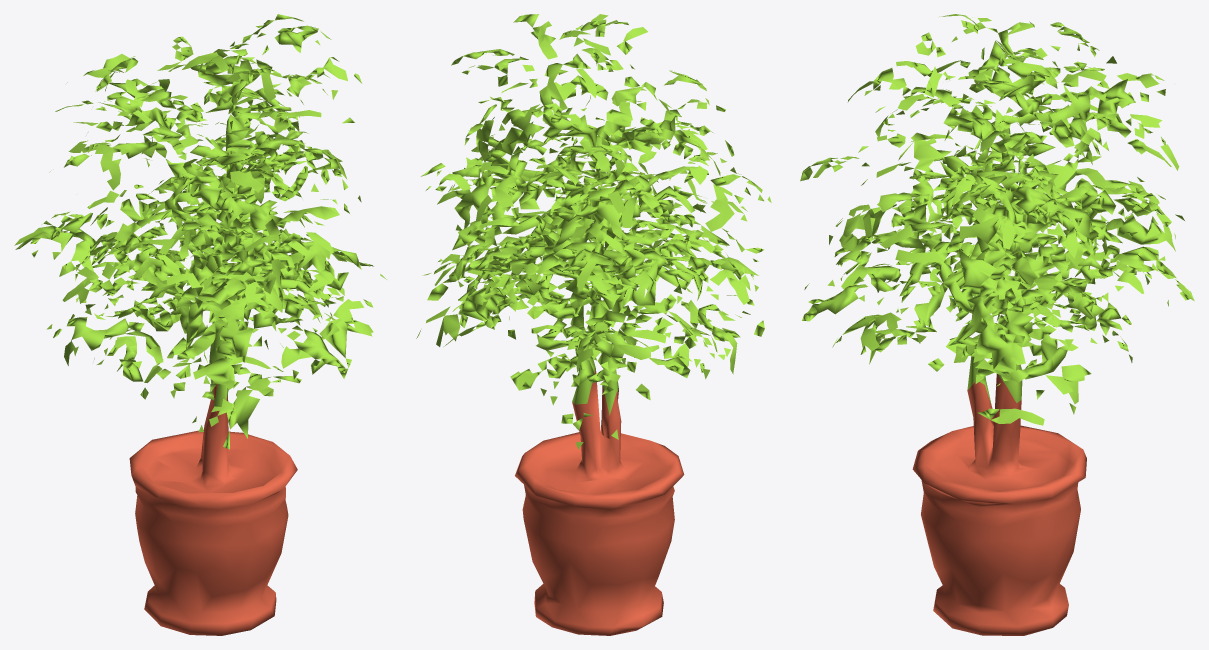
The model's file is petite_plante_3.glb.
The picture shows the model from 3 angles, left to right: view 1: azimuth 30°, elevation 25°; view 2: azimuth 150°, elevation 25°; view 3: azimuth 270°, elevation 25°; orthographic projection. The views are drawn at different scales.
Visible parts, largest first — view 1: Mesh1; view 2: Mesh1; view 3: Mesh1.
Part boxes in pixels (x1,y1,x2,y2): Mesh1: (14, 14, 386, 635); Mesh1: (416, 14, 771, 635); Mesh1: (800, 14, 1194, 635).
Size of the model in its own units: 1.16 by 1.98 by 1.18.
